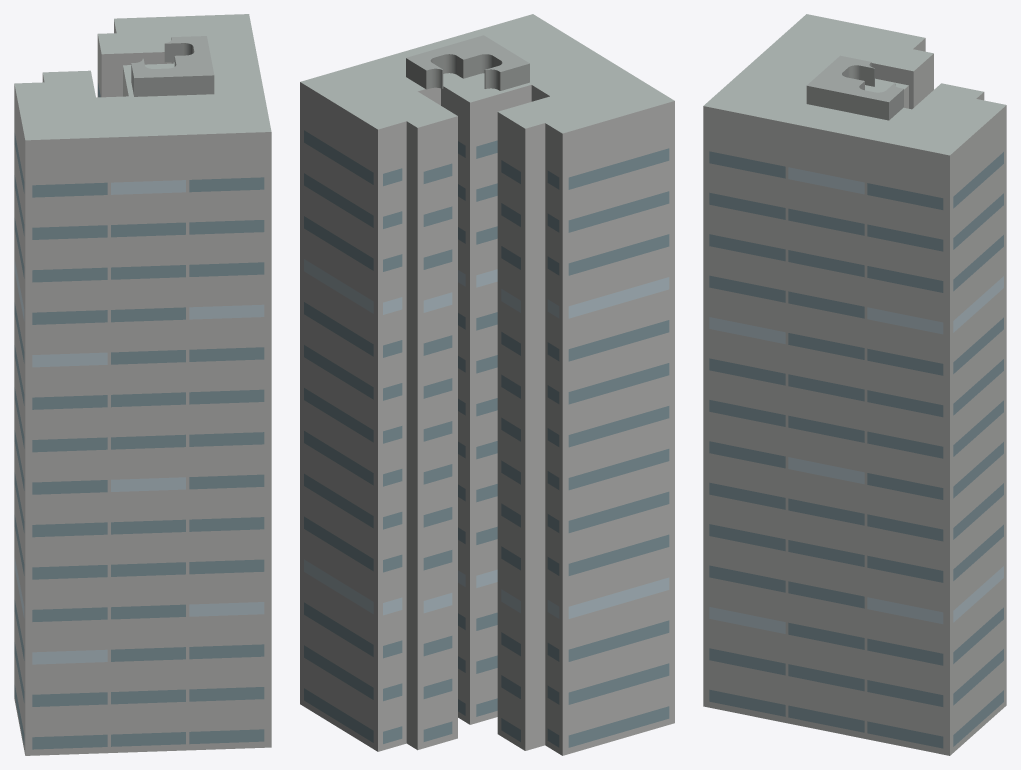
File: fallback-banpo-xi-105.glb
The picture shows the model from 3 angles, left to right: view 1: azimuth 30°, elevation 25°; view 2: azimuth 150°, elevation 25°; view 3: azimuth 270°, elevation 25°; orthographic projection. The views are drawn at different scales.
Visible parts, largest first — view 1: fallback-banpo-xi-105; view 2: fallback-banpo-xi-105; view 3: fallback-banpo-xi-105.
Boxes of the visible parts, <box> form: fallback-banpo-xi-105: <box>14,14,271,755</box>; fallback-banpo-xi-105: <box>300,14,674,755</box>; fallback-banpo-xi-105: <box>703,14,1006,755</box>.
Bounding box in the file's own units: 39.73 × 81 × 36.
